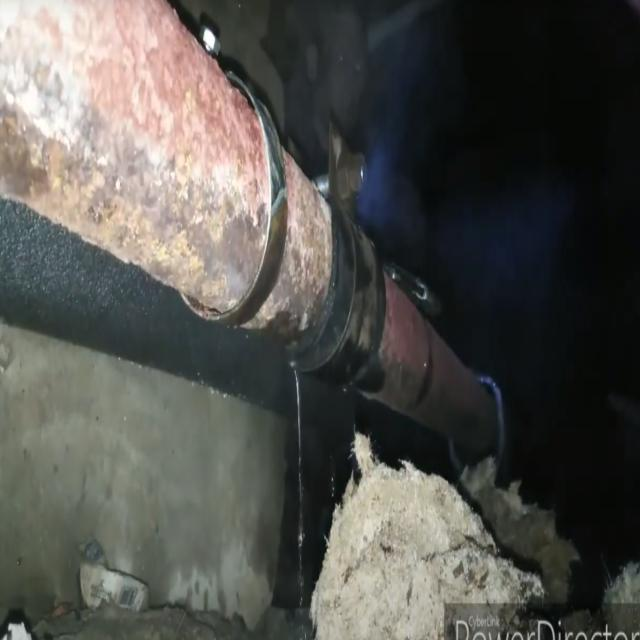leak: (294, 370, 304, 606)
